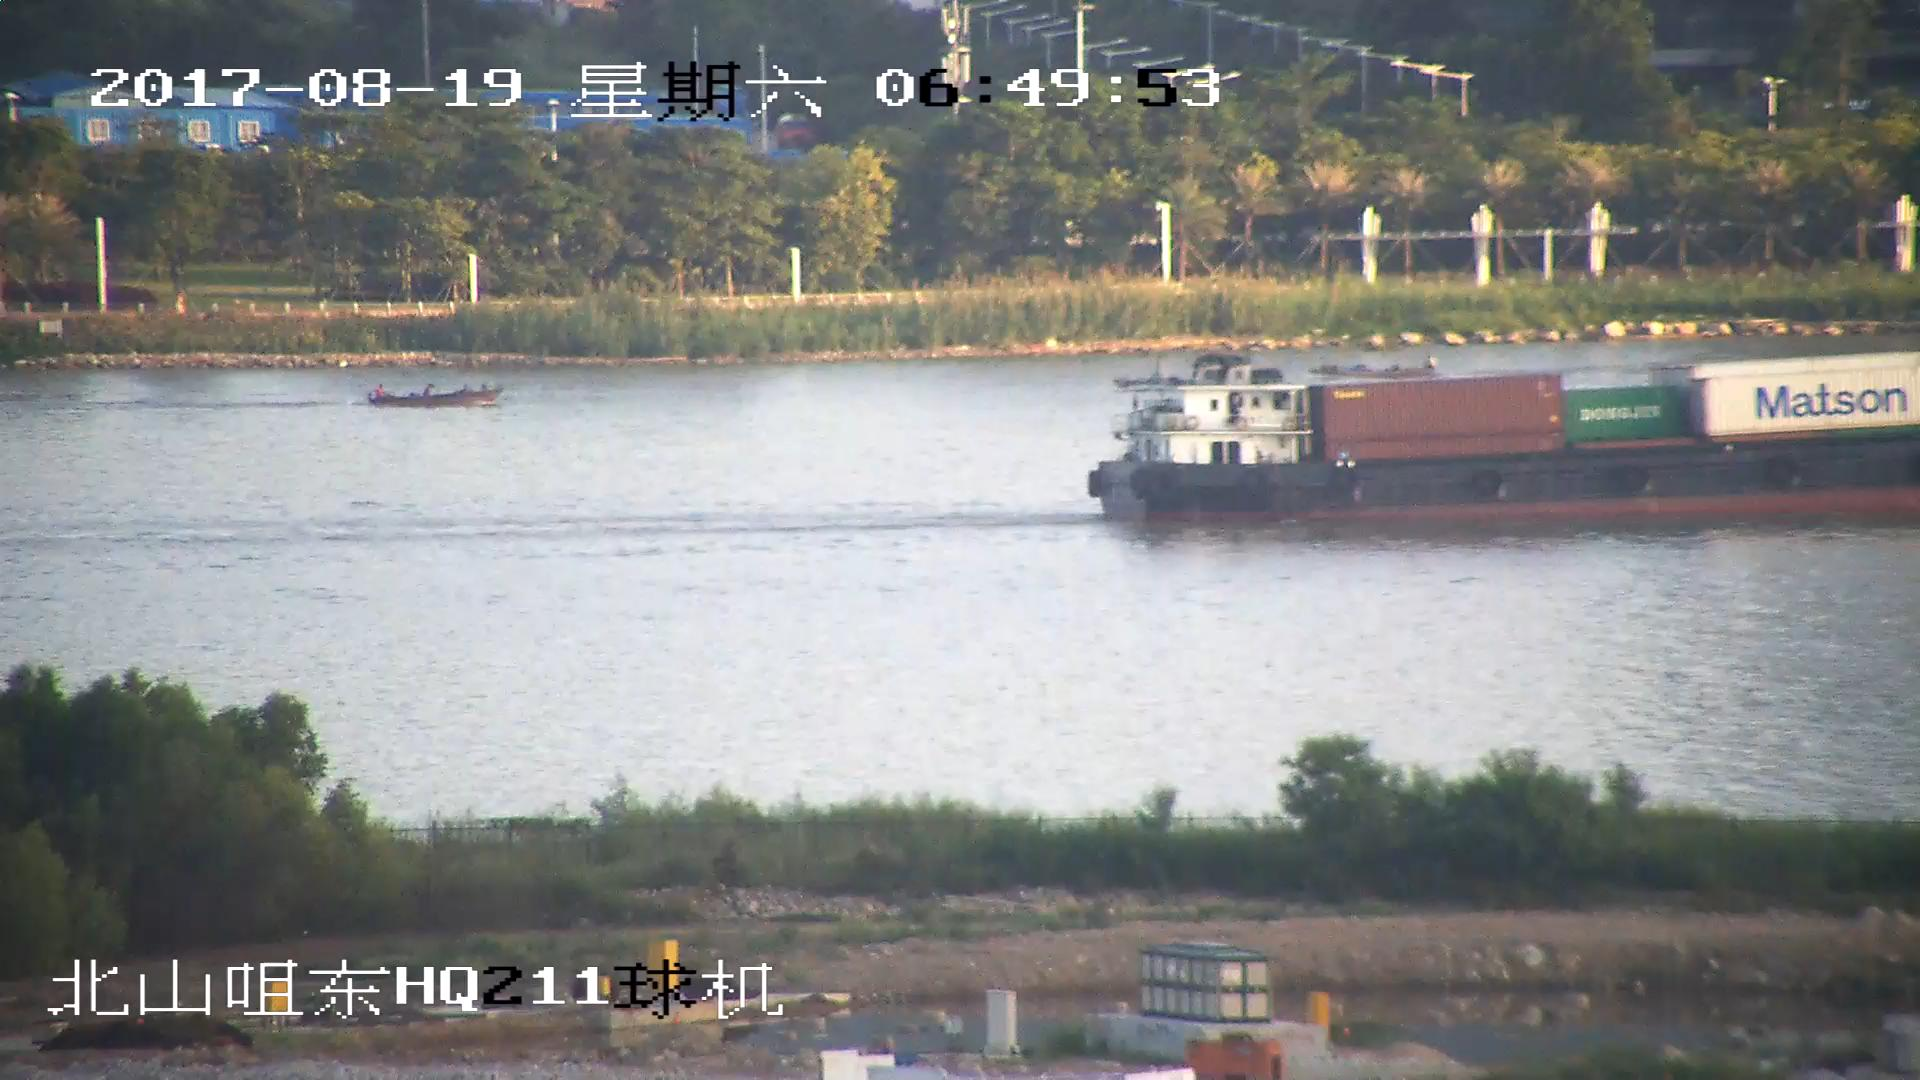container ship: (1086, 352, 1920, 531)
fishing boat: (365, 378, 503, 409)
